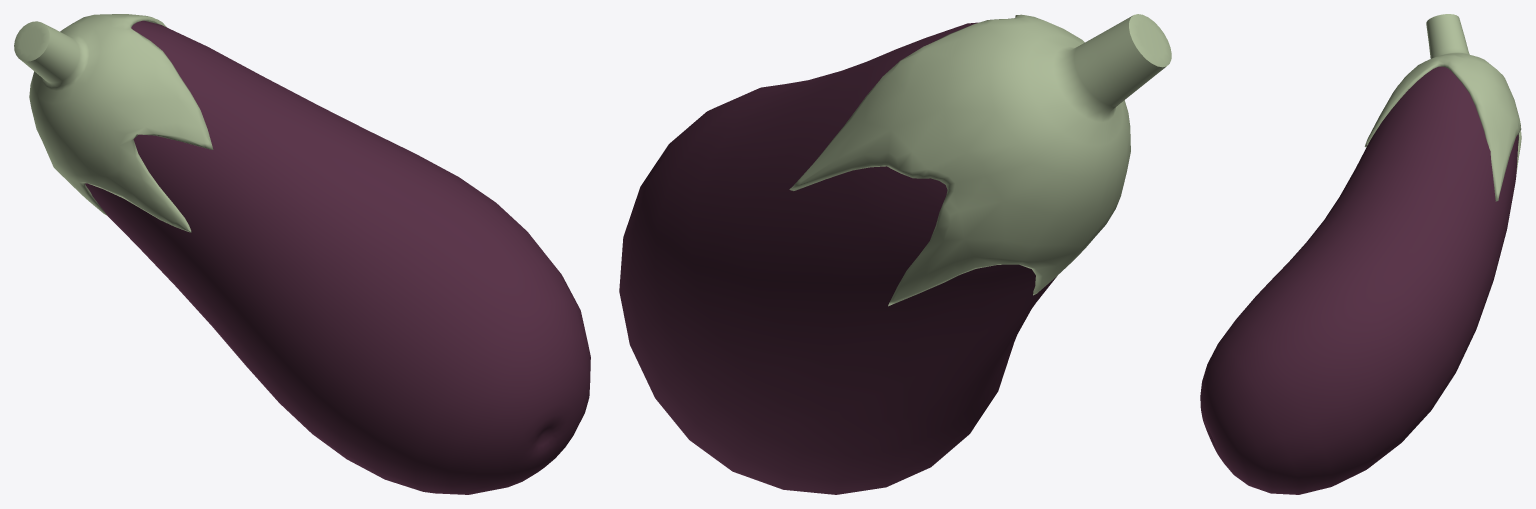
The model's file is eggplant.fbx.
3 renders of one model, left to right at view 1: azimuth 30°, elevation 25°; view 2: azimuth 150°, elevation 25°; view 3: azimuth 270°, elevation 25°, orthographic. The views are drawn at different scales.
Parts seen in each view (by area): view 1: Model_061_Aubergine_02; view 2: Model_061_Aubergine_02; view 3: Model_061_Aubergine_02.
Part boxes in pixels (x1,y1,x2,y2): Model_061_Aubergine_02: (14, 14, 590, 494); Model_061_Aubergine_02: (619, 14, 1171, 494); Model_061_Aubergine_02: (1200, 14, 1521, 494).
Size of the model in its own units: 12.32 by 12.01 by 9.94.
